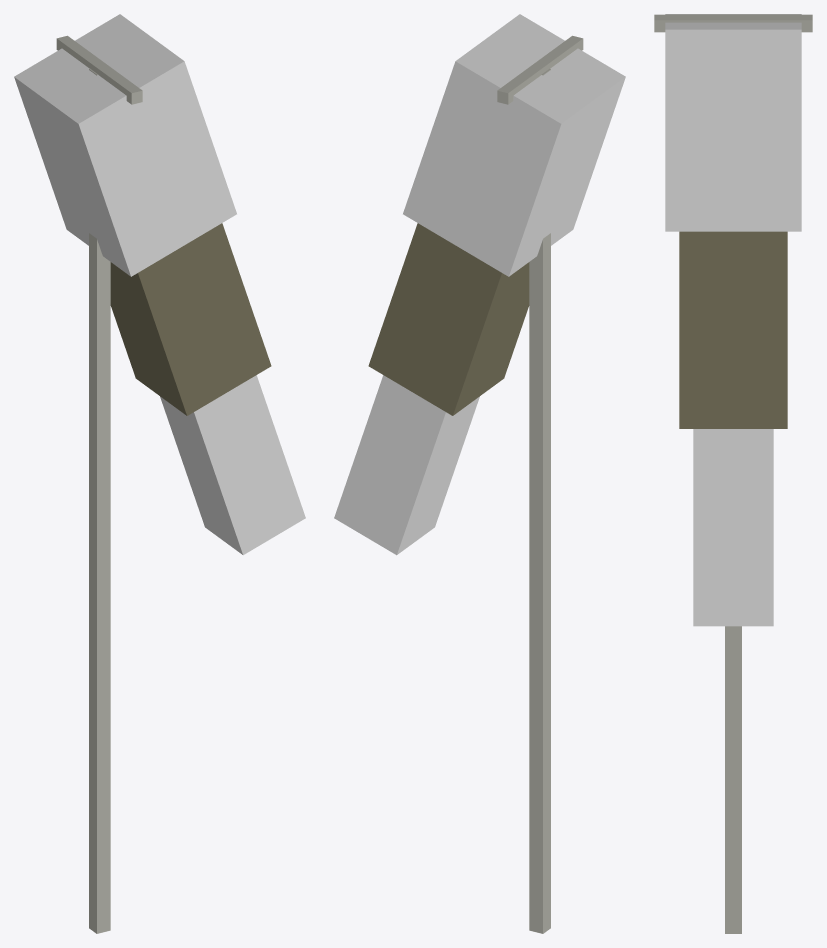
File: SM_MangaViento_v2_Caida_LOD0.fbx
The picture shows the model from 3 angles, left to right: view 1: azimuth 30°, elevation 25°; view 2: azimuth 150°, elevation 25°; view 3: azimuth 270°, elevation 25°; orthographic projection. The views are drawn at different scales.
Parts seen in each view (by area): view 1: SM_ambiente_aerodromo_v2_LOD0; view 2: SM_ambiente_aerodromo_v2_LOD0; view 3: SM_ambiente_aerodromo_v2_LOD0.
Boxes of the visible parts, <box> form: SM_ambiente_aerodromo_v2_LOD0: <box>14,14,305,933</box>; SM_ambiente_aerodromo_v2_LOD0: <box>334,14,625,933</box>; SM_ambiente_aerodromo_v2_LOD0: <box>654,14,812,933</box>.
Bounding box in the file's own units: 1.76 × 6.14 × 0.95.
